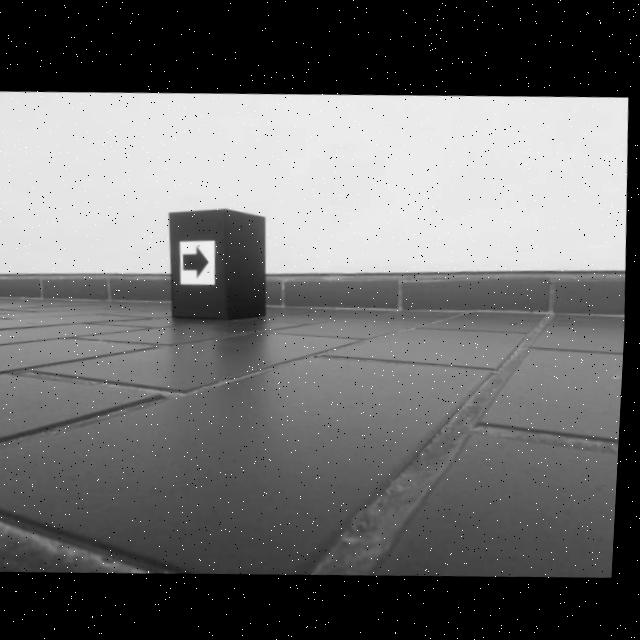RIGHT: (185, 242, 212, 277)
